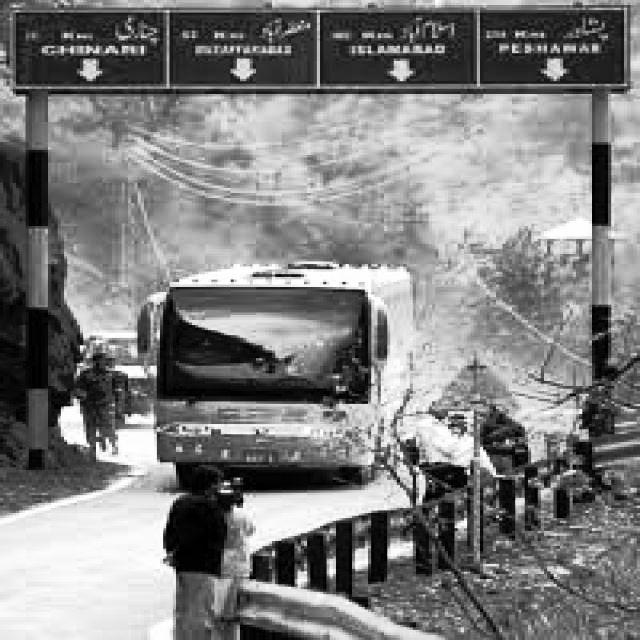Bus: (123, 246, 417, 495)
